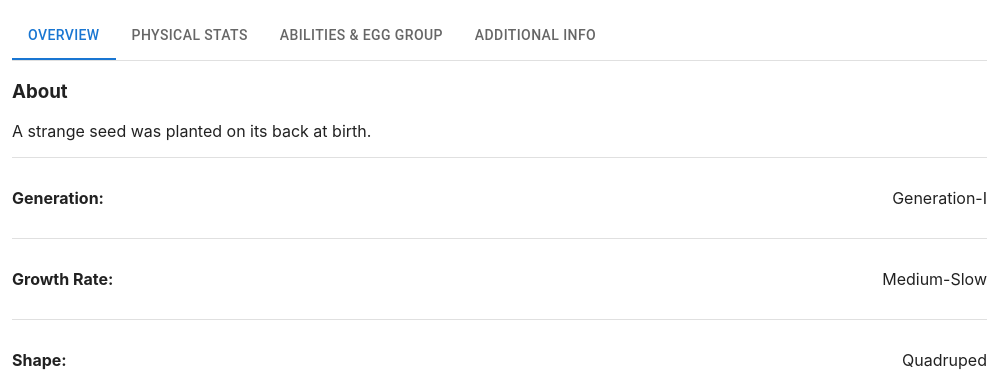
Scenario: Bio Component › switches to 'Additional Info' tab and displays characteristic and habitat
Click the tab "Additional Info" at (536, 36), box [459,12,612,60]
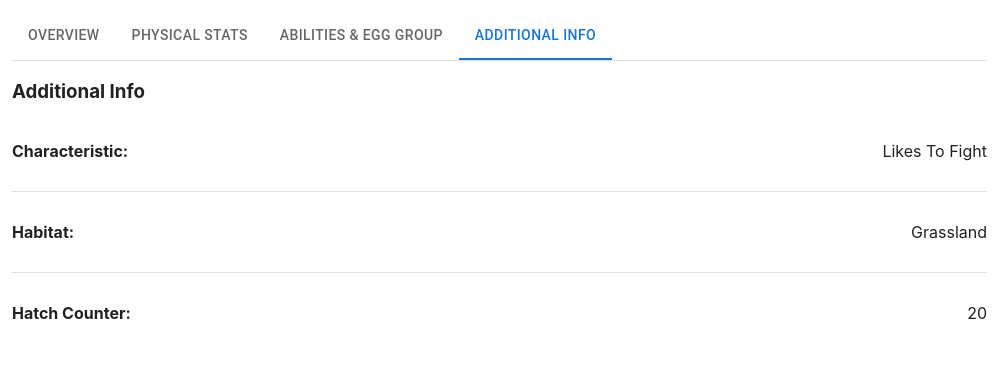
Expected: the text "Characteristic:" is shown, [12,141,128,161]
Expected: the text "Likes to fight" is shown, [882,141,987,161]
Expected: the text "Habitat:" is shown, [12,222,74,242]
